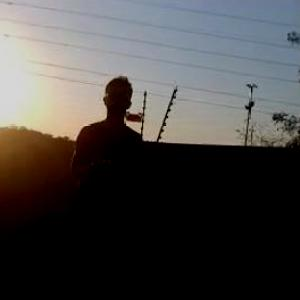follow: (59, 71, 144, 299)
